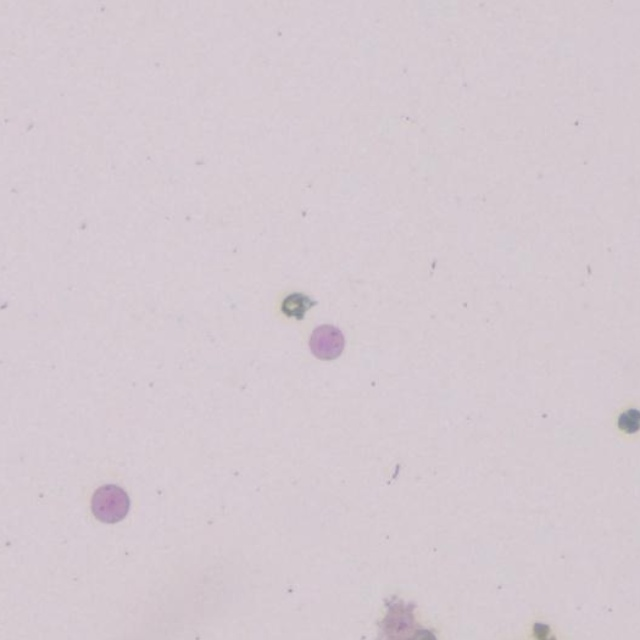intermediate: (90, 484, 129, 523), (310, 324, 344, 360)
non_viable: (617, 408, 640, 433)
